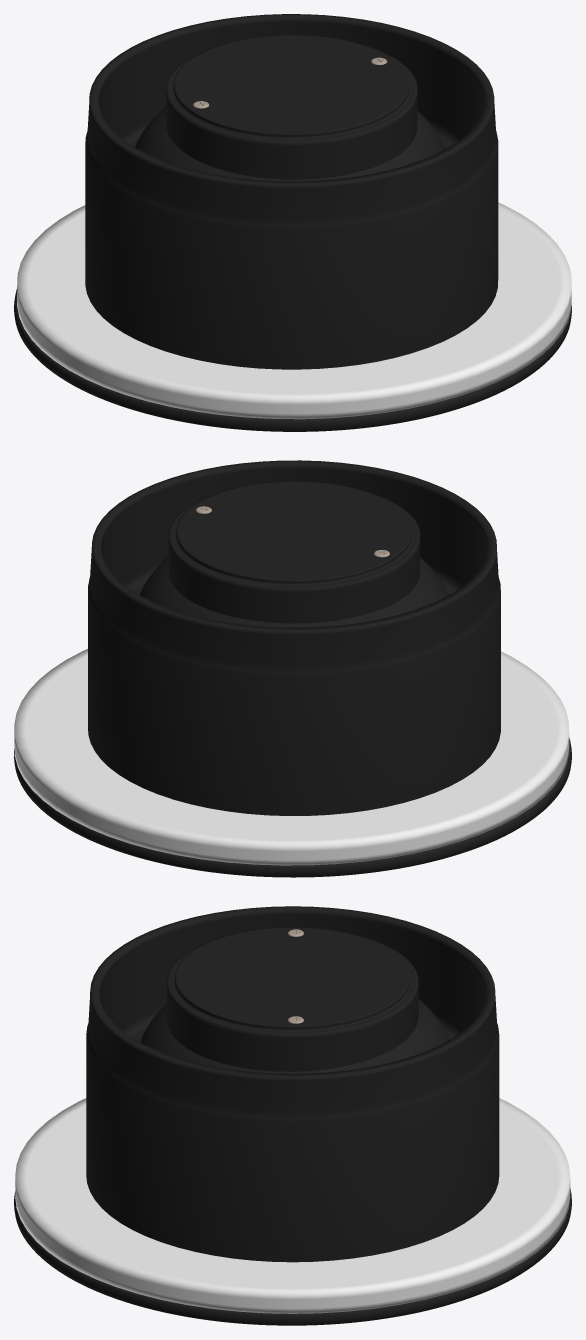
Rendered from Sensor.fbx.
3 views of the same model, one above another, from view 1: azimuth 30°, elevation 25°; view 2: azimuth 150°, elevation 25°; view 3: azimuth 270°, elevation 25° (orthographic).
Visible parts, largest first — view 1: ASSET; view 2: ASSET; view 3: ASSET.
Part boxes in pixels (bbox=[...]): ASSET: bbox=[14, 14, 571, 431]; ASSET: bbox=[14, 460, 571, 877]; ASSET: bbox=[14, 906, 571, 1325].
Size of the model in its own units: 3.4 by 1.66 by 3.4.
